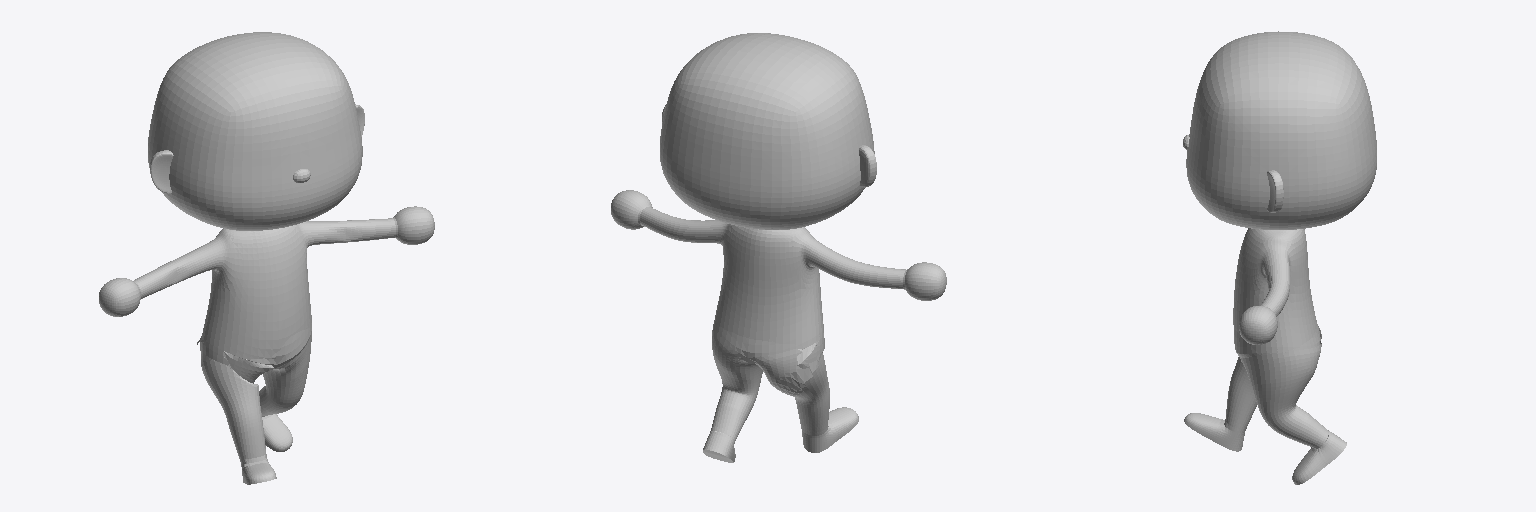
The model's file is Macchiato walking (right leg).obj.
The picture shows the model from 3 angles: view 1: azimuth 30°, elevation 25°; view 2: azimuth 150°, elevation 25°; view 3: azimuth 270°, elevation 25°; orthographic projection.
Parts seen in each view (by area): view 1: Cube.001, Cube.002, Cube.003, Cube.008, Cube.005, Cube.004; view 2: Cube.001, Cube.002, Cube.003, Cube.008, Cube.005, Cube.004; view 3: Cube.001, Cube.002, Cube.003, Cube.008, Cube.004.
Part boxes in pixels (x1,y1,x2,y2): Cube.001: (148,32,364,230); Cube.002: (133,218,395,368); Cube.003: (200,333,311,463); Cube.008: (241,414,292,484); Cube.005: (99,278,140,316); Cube.004: (393,206,434,244); Cube.001: (660,33,876,229); Cube.002: (640,207,905,364); Cube.003: (710,324,829,440); Cube.008: (703,407,858,462); Cube.005: (903,262,946,300); Cube.004: (611,190,652,229); Cube.001: (1183,31,1376,229); Cube.002: (1233,228,1321,357); Cube.003: (1224,326,1328,448); Cube.008: (1184,413,1346,484); Cube.004: (1239,306,1277,344).
Bounding box in the file's own units: 2.58 × 3.12 × 1.32.